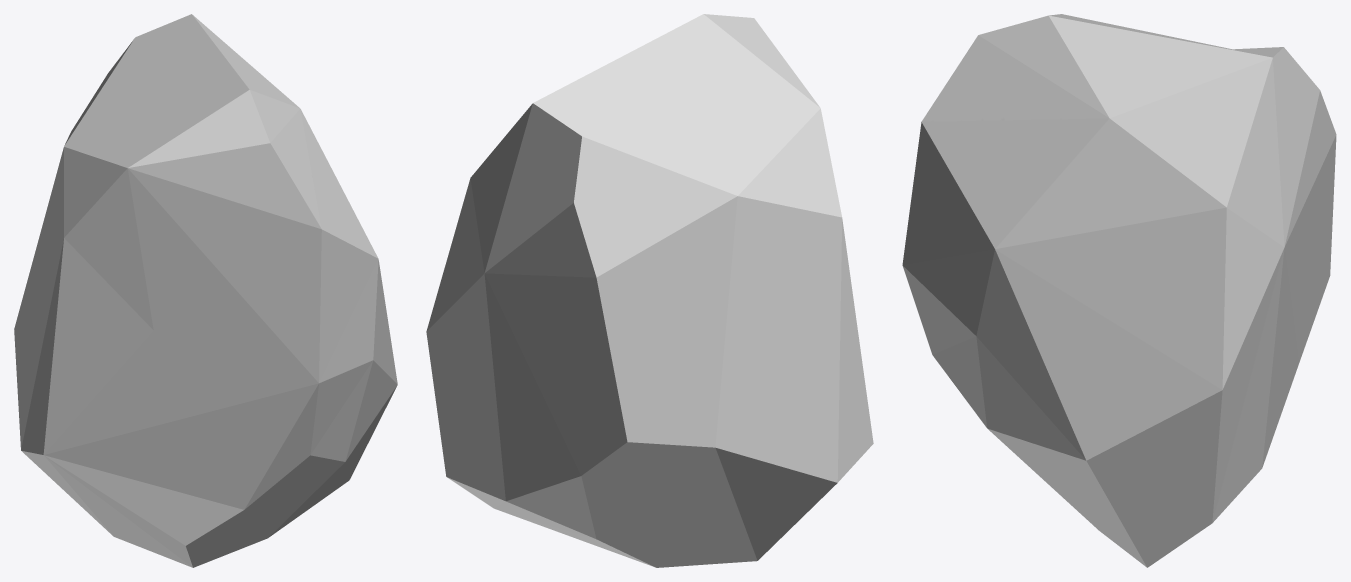
The model's file is Iron_ore.fbx.
3 renders of one model, left to right at view 1: azimuth 30°, elevation 25°; view 2: azimuth 150°, elevation 25°; view 3: azimuth 270°, elevation 25°, orthographic. The views are drawn at different scales.
Visible parts, largest first — view 1: Iron_ore; view 2: Iron_ore; view 3: Iron_ore.
Boxes of the visible parts, <box> form: Iron_ore: <box>14,14,397,567</box>; Iron_ore: <box>426,14,873,567</box>; Iron_ore: <box>902,14,1336,567</box>.
Size of the model in its own units: 80.13 by 102 by 81.66.
